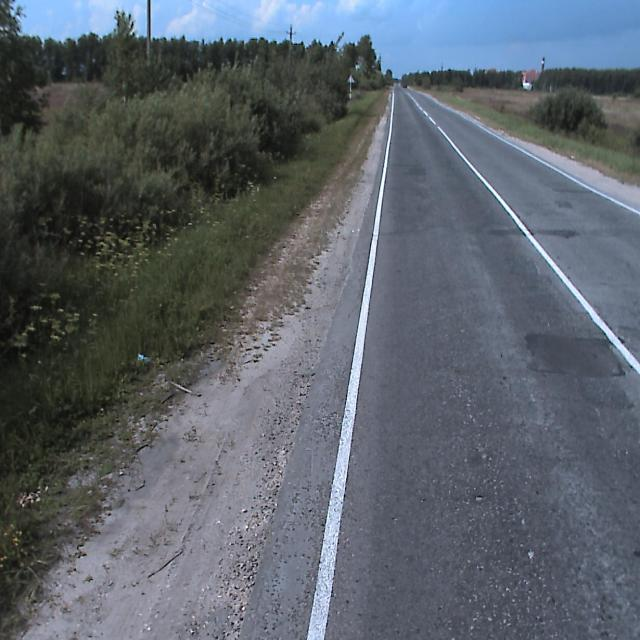road: (238, 83, 639, 639)
